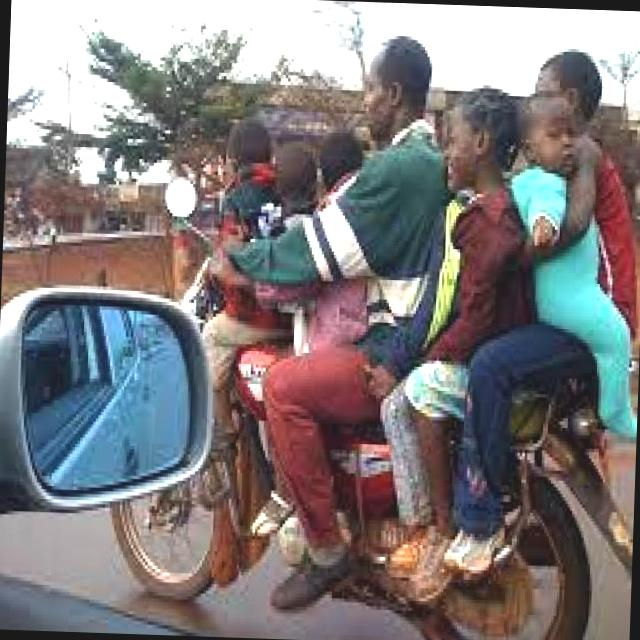motorcycle: (98, 250, 624, 640)
person: (500, 42, 640, 487), (498, 88, 640, 490), (328, 29, 447, 502), (408, 76, 540, 479), (277, 106, 386, 446), (252, 124, 338, 450), (205, 113, 286, 328)
rider_region: (124, 24, 640, 640)
